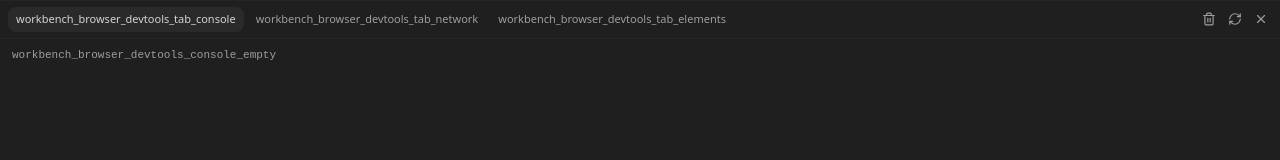
Test case: BrowserDevtoolsPanel › mostra requisições de rede na sub-aba Network
expect the text "workbench_browser_devtools_console_empty" is shown: met, box [12,48,276,60]
Click the button with test id "devtools-subtab-network" at (367,19), box [248,7,486,32]
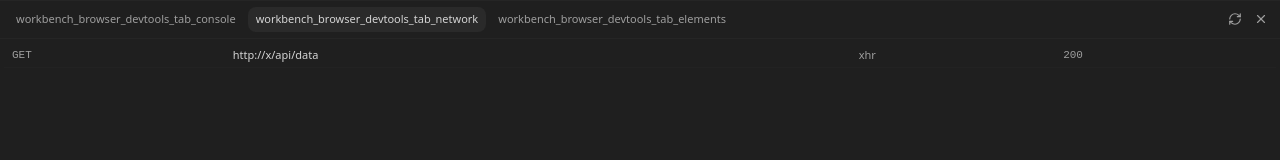
expect the text "http://x/api/data" is shown: met, box [225,42,851,68]
